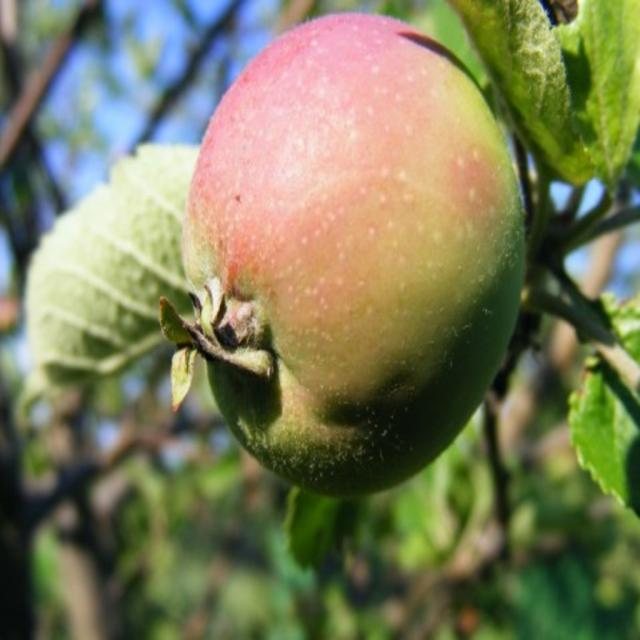Peach: (176, 12, 526, 490)
